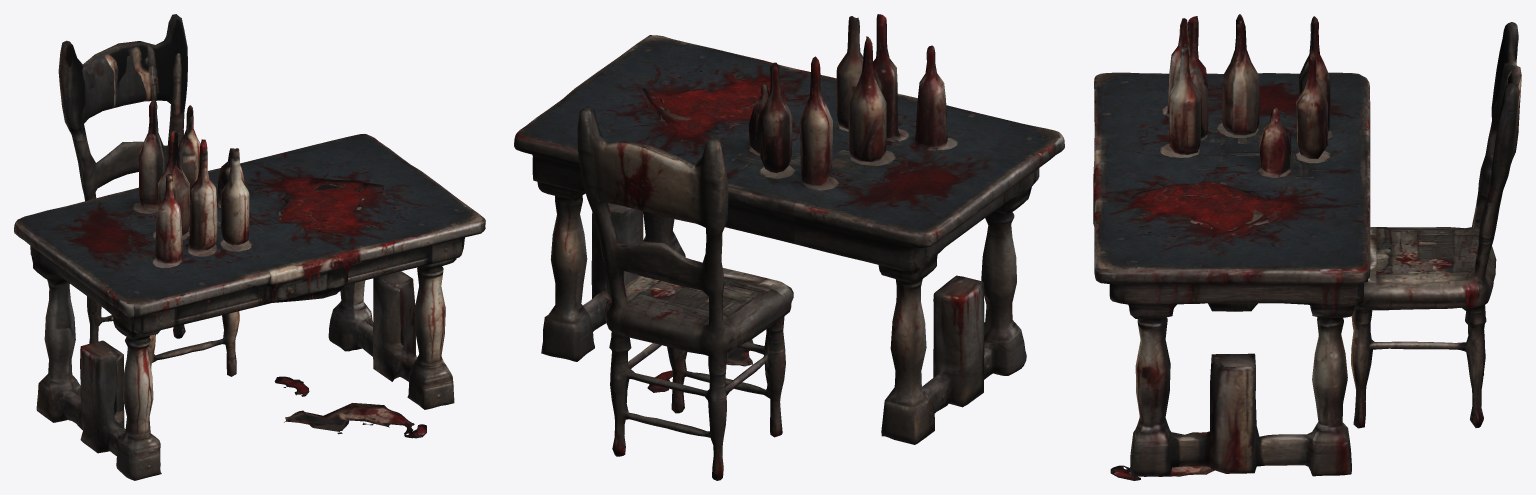
Rendered from old_creepy_game_asset_0124143116_texture.fbx.
3 views of the same model, side by side, from view 1: azimuth 30°, elevation 25°; view 2: azimuth 150°, elevation 25°; view 3: azimuth 270°, elevation 25° (orthographic). The views are drawn at different scales.
Parts seen in each view (by area): view 1: Mesh1_Mesh1.060; view 2: Mesh1_Mesh1.060; view 3: Mesh1_Mesh1.060.
Part boxes in pixels (x1,y1,x2,y2): Mesh1_Mesh1.060: [14, 14, 485, 480]; Mesh1_Mesh1.060: [514, 14, 1064, 480]; Mesh1_Mesh1.060: [1093, 14, 1521, 480].
Size of the model in its own units: 1193 by 1000 by 1083.
1 material, 1 textured.
